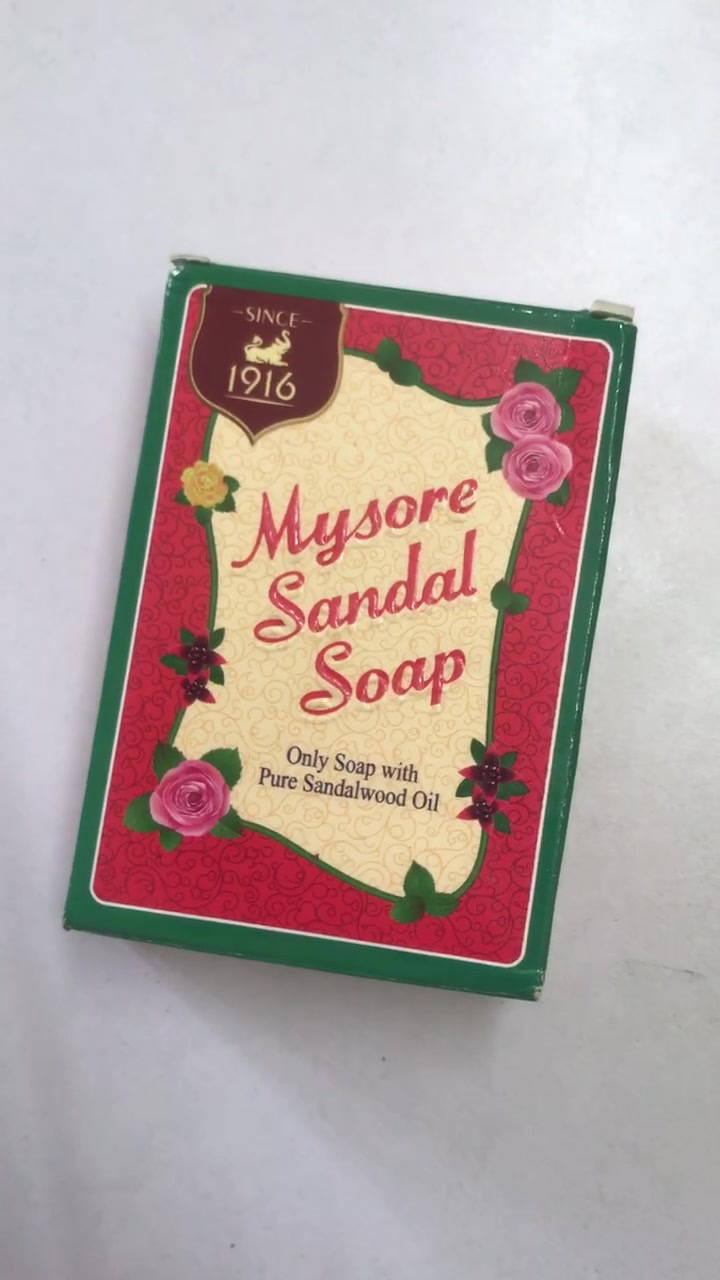mysore sandal soap: (62, 257, 642, 1000)
